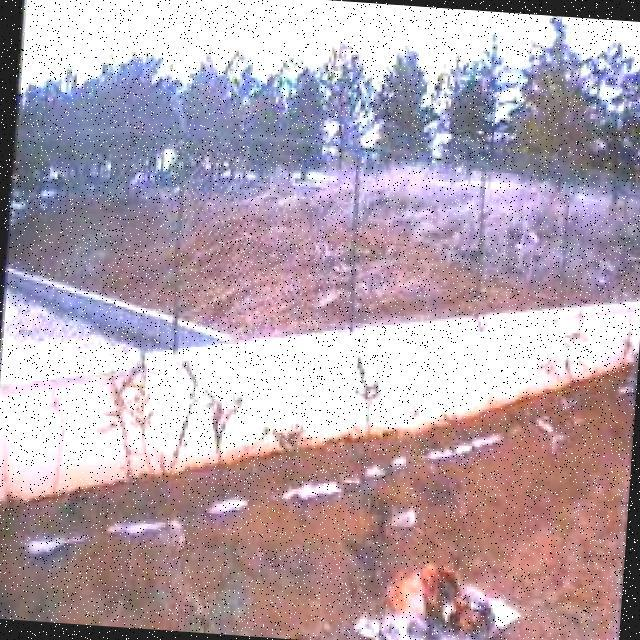Fire: (377, 559, 506, 640)
